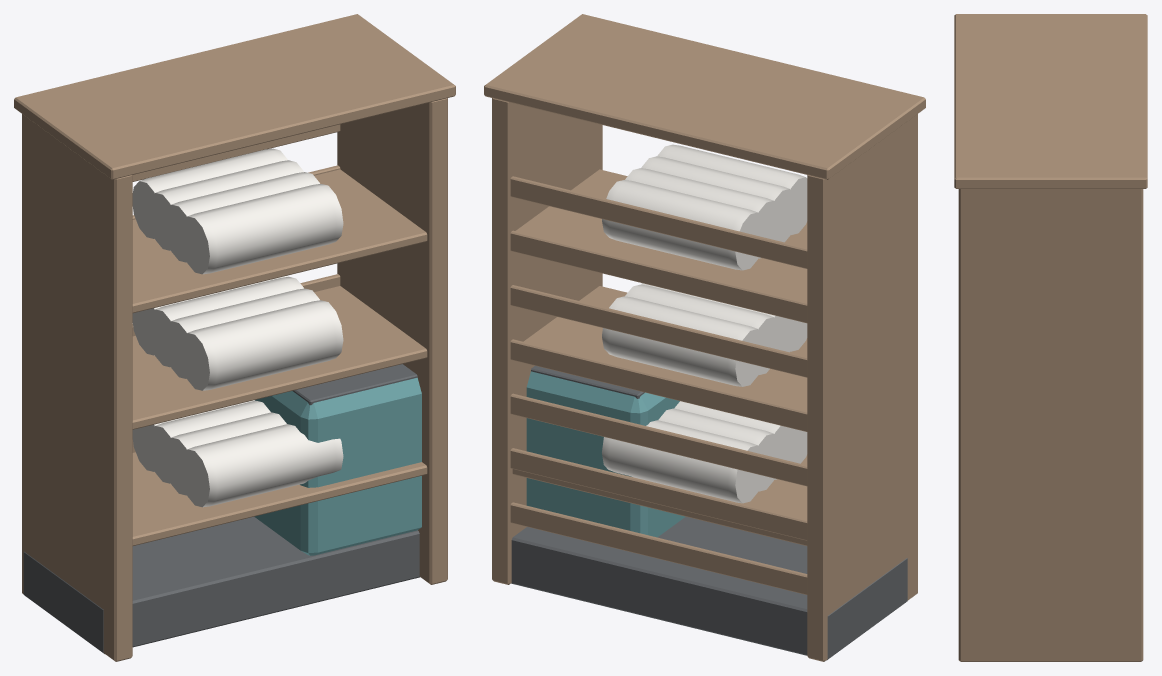
The model's file is hotel-and-resort-operations-poolside-towel-station-d72a3e23__25947.glb.
3 views of the same model, side by side, from view 1: azimuth 30°, elevation 25°; view 2: azimuth 150°, elevation 25°; view 3: azimuth 270°, elevation 25° (orthographic).
Visible parts, largest first — view 1: poolside-towel-station; view 2: poolside-towel-station; view 3: poolside-towel-station.
Part boxes in pixels (x1,y1,x2,y2): poolside-towel-station: [14, 14, 455, 661]; poolside-towel-station: [484, 14, 925, 661]; poolside-towel-station: [954, 14, 1147, 661].
Bounding box in the file's own units: 0.93 × 1.28 × 0.4601.
